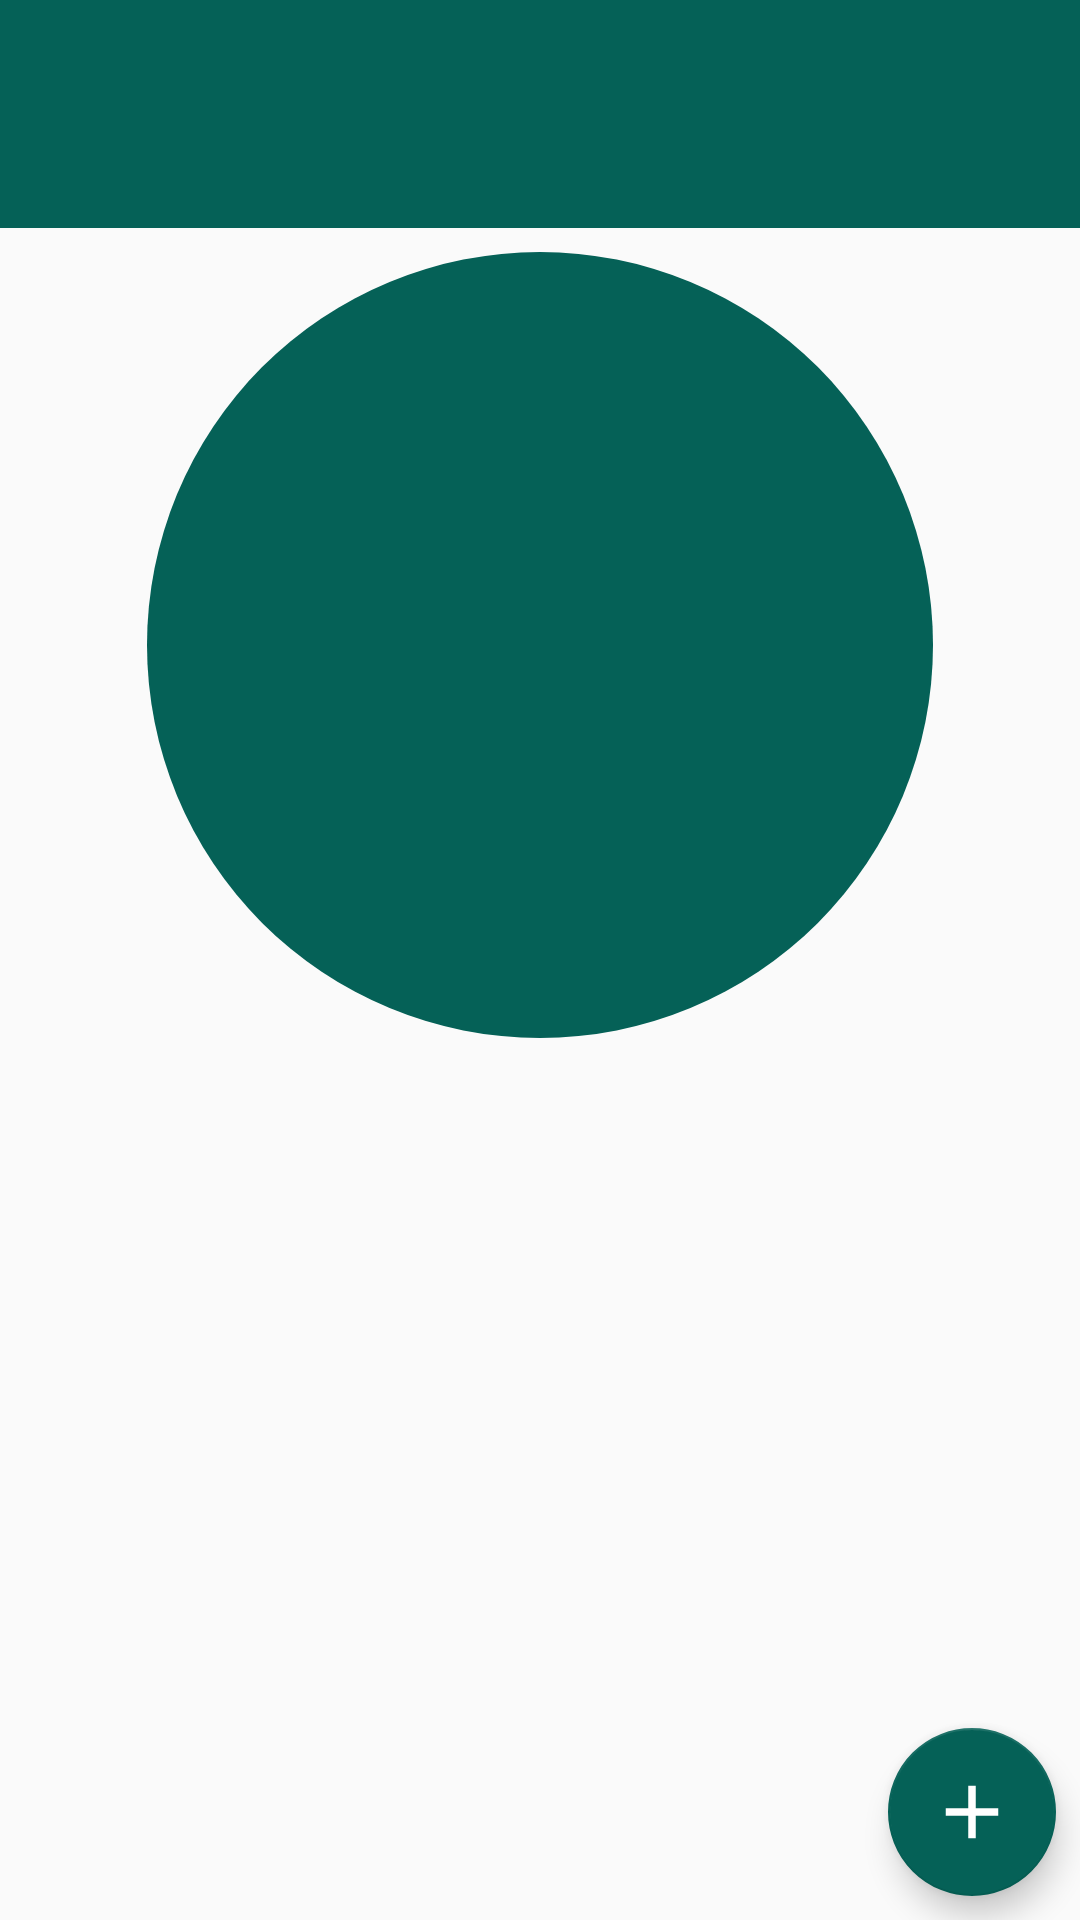

Point at icon controls on the screen. Image size 1080x1920, points as point (x, y).
A button with a + sign indicating addition of new values: point (972, 1812)
